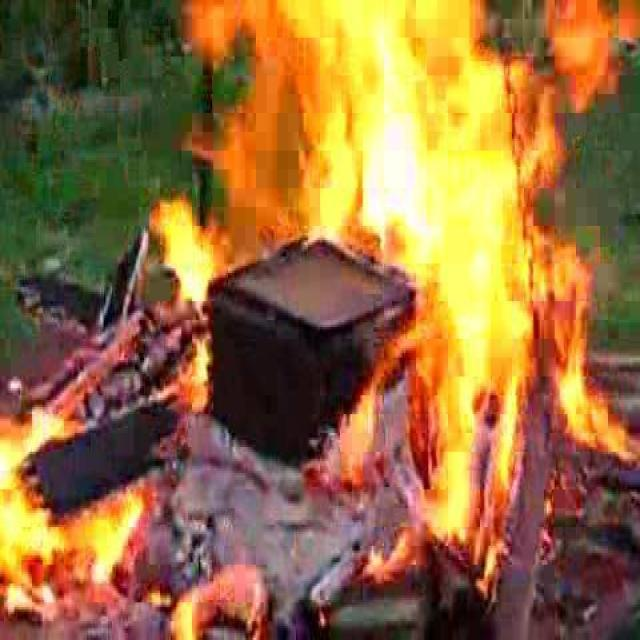Fire: (140, 1, 628, 522), (0, 377, 204, 636)
